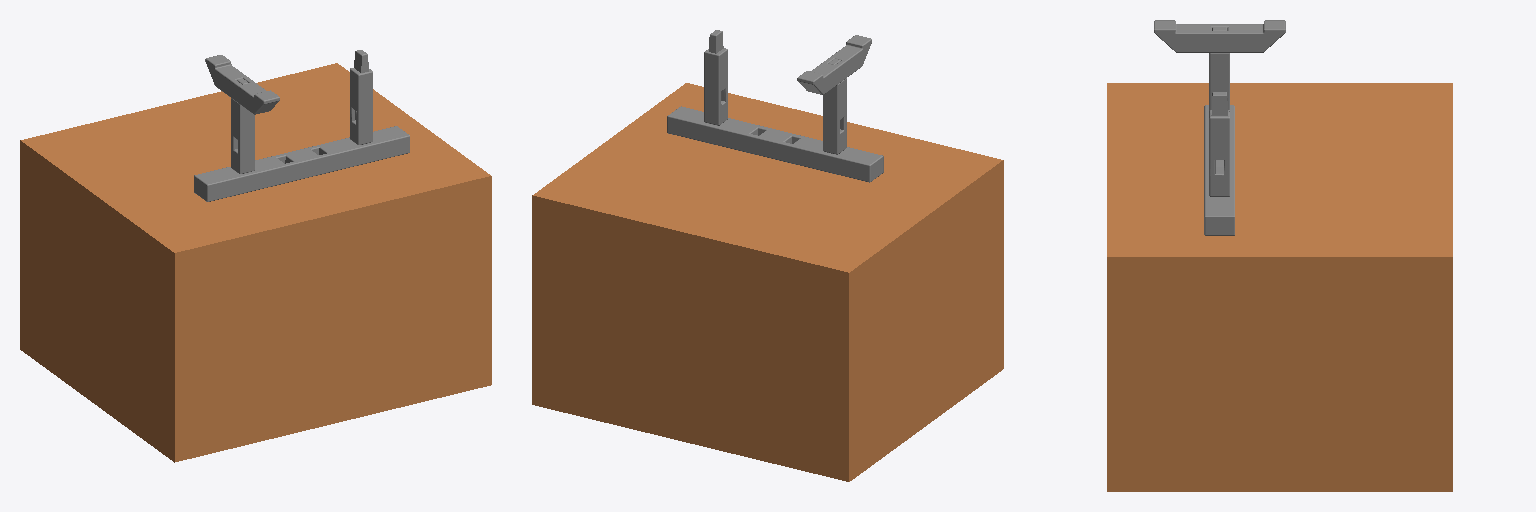
The robot description file, URDF, robot "table_beam_2x_1_scene_0002":
<?xml version="1.0"?>
<robot name="table_beam_2x_1_scene_0002">
  <link name="box">
    <visual>
      <material name="wood"><color rgba="0.82 0.56 0.35 1.0"/></material>
      <origin xyz="0 0 0"/>
      <geometry><box size="0.475 0.4 0.3"/></geometry>
    </visual>
    <collision>
      <origin xyz="0 0 0"/>
      <geometry><box size="0.475 0.4 0.3"/></geometry>
    </collision>
    <inertial>
      <mass value="500"/>
      <friction value="1.0"/>
      <inertia ixx="1000.0" ixy="0.0" ixz="0.0" iyy="1000.0" iyz="0.0" izz="1000.0"/>
    </inertial>
  </link>
  <link name="part_6_canonical">
    <visual>
      <origin xyz="0 0 0" rpy="0 0 0"/>
      <geometry><mesh filename="../../6/6_canonical.obj" scale="1 1 1"/></geometry>
      <material name="placed_0"><color rgba="0.6 0.6 0.6 1.0"/></material>
    </visual>
    <collision>
      <origin xyz="0 0 0" rpy="0 0 0"/>
      <geometry><mesh filename="../../6/6_canonical.obj" scale="1 1 1"/></geometry>
    </collision>
  </link>
  <joint name="part_6_canonical_joint" type="fixed">
    <parent link="box"/>
    <child link="part_6_canonical"/>
    <origin xyz="0.029054 -0.069619 0.162666" rpy="0.000000 0.000000 0.000000"/>
  </joint>
  <link name="part_2_canonical">
    <visual>
      <origin xyz="0 0 0" rpy="0 0 0"/>
      <geometry><mesh filename="../../2/2_canonical.obj" scale="1 1 1"/></geometry>
      <material name="placed_1"><color rgba="0.6 0.6 0.6 1.0"/></material>
    </visual>
    <collision>
      <origin xyz="0 0 0" rpy="0 0 0"/>
      <geometry><mesh filename="../../2/2_canonical.obj" scale="1 1 1"/></geometry>
    </collision>
  </link>
  <joint name="part_2_canonical_joint" type="fixed">
    <parent link="box"/>
    <child link="part_2_canonical"/>
    <origin xyz="-0.059873 -0.069619 0.225384" rpy="0.000000 -1.570796 0.000000"/>
  </joint>
  <link name="part_0_canonical">
    <visual>
      <origin xyz="0 0 0" rpy="0 0 0"/>
      <geometry><mesh filename="../../0/0_canonical.obj" scale="1 1 1"/></geometry>
      <material name="placed_2"><color rgba="0.6 0.6 0.6 1.0"/></material>
    </visual>
    <collision>
      <origin xyz="0 0 0" rpy="0 0 0"/>
      <geometry><mesh filename="../../0/0_canonical.obj" scale="1 1 1"/></geometry>
    </collision>
  </link>
  <joint name="part_0_canonical_joint" type="fixed">
    <parent link="box"/>
    <child link="part_0_canonical"/>
    <origin xyz="-0.059846 -0.069619 0.292243" rpy="1.570796 0.000000 -1.570796"/>
  </joint>
  <link name="part_3_hull_0">
    <visual>
      <origin xyz="0 0 0" rpy="0 0 0"/>
      <geometry><mesh filename="../../3/coacd/decomp_0.obj" scale="1 1 1"/></geometry>
      <material name="placed_3"><color rgba="0.6 0.6 0.6 1.0"/></material>
    </visual>
    <collision>
      <origin xyz="0 0 0" rpy="0 0 0"/>
      <geometry><mesh filename="../../3/coacd/decomp_0.obj" scale="1 1 1"/></geometry>
    </collision>
  </link>
  <joint name="part_3_hull_0_joint" type="fixed">
    <parent link="box"/>
    <child link="part_3_hull_0"/>
    <origin xyz="0.117981 -0.069619 0.225384" rpy="0.000000 -1.570796 0.000000"/>
  </joint>
  <link name="part_3_hull_1">
    <visual>
      <origin xyz="0 0 0" rpy="0 0 0"/>
      <geometry><mesh filename="../../3/coacd/decomp_1.obj" scale="1 1 1"/></geometry>
      <material name="placed_4"><color rgba="0.6 0.6 0.6 1.0"/></material>
    </visual>
    <collision>
      <origin xyz="0 0 0" rpy="0 0 0"/>
      <geometry><mesh filename="../../3/coacd/decomp_1.obj" scale="1 1 1"/></geometry>
    </collision>
  </link>
  <joint name="part_3_hull_1_joint" type="fixed">
    <parent link="box"/>
    <child link="part_3_hull_1"/>
    <origin xyz="0.117981 -0.069619 0.225384" rpy="0.000000 -1.570796 0.000000"/>
  </joint>
  <link name="part_3_hull_2">
    <visual>
      <origin xyz="0 0 0" rpy="0 0 0"/>
      <geometry><mesh filename="../../3/coacd/decomp_10.obj" scale="1 1 1"/></geometry>
      <material name="placed_5"><color rgba="0.6 0.6 0.6 1.0"/></material>
    </visual>
    <collision>
      <origin xyz="0 0 0" rpy="0 0 0"/>
      <geometry><mesh filename="../../3/coacd/decomp_10.obj" scale="1 1 1"/></geometry>
    </collision>
  </link>
  <joint name="part_3_hull_2_joint" type="fixed">
    <parent link="box"/>
    <child link="part_3_hull_2"/>
    <origin xyz="0.117981 -0.069619 0.225384" rpy="0.000000 -1.570796 0.000000"/>
  </joint>
  <link name="part_3_hull_3">
    <visual>
      <origin xyz="0 0 0" rpy="0 0 0"/>
      <geometry><mesh filename="../../3/coacd/decomp_11.obj" scale="1 1 1"/></geometry>
      <material name="placed_6"><color rgba="0.6 0.6 0.6 1.0"/></material>
    </visual>
    <collision>
      <origin xyz="0 0 0" rpy="0 0 0"/>
      <geometry><mesh filename="../../3/coacd/decomp_11.obj" scale="1 1 1"/></geometry>
    </collision>
  </link>
  <joint name="part_3_hull_3_joint" type="fixed">
    <parent link="box"/>
    <child link="part_3_hull_3"/>
    <origin xyz="0.117981 -0.069619 0.225384" rpy="0.000000 -1.570796 0.000000"/>
  </joint>
  <link name="part_3_hull_4">
    <visual>
      <origin xyz="0 0 0" rpy="0 0 0"/>
      <geometry><mesh filename="../../3/coacd/decomp_12.obj" scale="1 1 1"/></geometry>
      <material name="placed_7"><color rgba="0.6 0.6 0.6 1.0"/></material>
    </visual>
    <collision>
      <origin xyz="0 0 0" rpy="0 0 0"/>
      <geometry><mesh filename="../../3/coacd/decomp_12.obj" scale="1 1 1"/></geometry>
    </collision>
  </link>
  <joint name="part_3_hull_4_joint" type="fixed">
    <parent link="box"/>
    <child link="part_3_hull_4"/>
    <origin xyz="0.117981 -0.069619 0.225384" rpy="0.000000 -1.570796 0.000000"/>
  </joint>
  <link name="part_3_hull_5">
    <visual>
      <origin xyz="0 0 0" rpy="0 0 0"/>
      <geometry><mesh filename="../../3/coacd/decomp_2.obj" scale="1 1 1"/></geometry>
      <material name="placed_8"><color rgba="0.6 0.6 0.6 1.0"/></material>
    </visual>
    <collision>
      <origin xyz="0 0 0" rpy="0 0 0"/>
      <geometry><mesh filename="../../3/coacd/decomp_2.obj" scale="1 1 1"/></geometry>
    </collision>
  </link>
  <joint name="part_3_hull_5_joint" type="fixed">
    <parent link="box"/>
    <child link="part_3_hull_5"/>
    <origin xyz="0.117981 -0.069619 0.225384" rpy="0.000000 -1.570796 0.000000"/>
  </joint>
  <link name="part_3_hull_6">
    <visual>
      <origin xyz="0 0 0" rpy="0 0 0"/>
      <geometry><mesh filename="../../3/coacd/decomp_3.obj" scale="1 1 1"/></geometry>
      <material name="placed_9"><color rgba="0.6 0.6 0.6 1.0"/></material>
    </visual>
    <collision>
      <origin xyz="0 0 0" rpy="0 0 0"/>
      <geometry><mesh filename="../../3/coacd/decomp_3.obj" scale="1 1 1"/></geometry>
    </collision>
  </link>
  <joint name="part_3_hull_6_joint" type="fixed">
    <parent link="box"/>
    <child link="part_3_hull_6"/>
    <origin xyz="0.117981 -0.069619 0.225384" rpy="0.000000 -1.570796 0.000000"/>
  </joint>
  <link name="part_3_hull_7">
    <visual>
      <origin xyz="0 0 0" rpy="0 0 0"/>
      <geometry><mesh filename="../../3/coacd/decomp_4.obj" scale="1 1 1"/></geometry>
      <material name="placed_10"><color rgba="0.6 0.6 0.6 1.0"/></material>
    </visual>
    <collision>
      <origin xyz="0 0 0" rpy="0 0 0"/>
      <geometry><mesh filename="../../3/coacd/decomp_4.obj" scale="1 1 1"/></geometry>
    </collision>
  </link>
  <joint name="part_3_hull_7_joint" type="fixed">
    <parent link="box"/>
    <child link="part_3_hull_7"/>
    <origin xyz="0.117981 -0.069619 0.225384" rpy="0.000000 -1.570796 0.000000"/>
  </joint>
  <link name="part_3_hull_8">
    <visual>
      <origin xyz="0 0 0" rpy="0 0 0"/>
      <geometry><mesh filename="../../3/coacd/decomp_5.obj" scale="1 1 1"/></geometry>
      <material name="placed_11"><color rgba="0.6 0.6 0.6 1.0"/></material>
    </visual>
    <collision>
      <origin xyz="0 0 0" rpy="0 0 0"/>
      <geometry><mesh filename="../../3/coacd/decomp_5.obj" scale="1 1 1"/></geometry>
    </collision>
  </link>
  <joint name="part_3_hull_8_joint" type="fixed">
    <parent link="box"/>
    <child link="part_3_hull_8"/>
    <origin xyz="0.117981 -0.069619 0.225384" rpy="0.000000 -1.570796 0.000000"/>
  </joint>
  <link name="part_3_hull_9">
    <visual>
      <origin xyz="0 0 0" rpy="0 0 0"/>
      <geometry><mesh filename="../../3/coacd/decomp_6.obj" scale="1 1 1"/></geometry>
      <material name="placed_12"><color rgba="0.6 0.6 0.6 1.0"/></material>
    </visual>
    <collision>
      <origin xyz="0 0 0" rpy="0 0 0"/>
      <geometry><mesh filename="../../3/coacd/decomp_6.obj" scale="1 1 1"/></geometry>
    </collision>
  </link>
  <joint name="part_3_hull_9_joint" type="fixed">
    <parent link="box"/>
    <child link="part_3_hull_9"/>
    <origin xyz="0.117981 -0.069619 0.225384" rpy="0.000000 -1.570796 0.000000"/>
  </joint>
  <link name="part_3_hull_10">
    <visual>
      <origin xyz="0 0 0" rpy="0 0 0"/>
      <geometry><mesh filename="../../3/coacd/decomp_7.obj" scale="1 1 1"/></geometry>
      <material name="placed_13"><color rgba="0.6 0.6 0.6 1.0"/></material>
    </visual>
    <collision>
      <origin xyz="0 0 0" rpy="0 0 0"/>
      <geometry><mesh filename="../../3/coacd/decomp_7.obj" scale="1 1 1"/></geometry>
    </collision>
  </link>
  <joint name="part_3_hull_10_joint" type="fixed">
    <parent link="box"/>
    <child link="part_3_hull_10"/>
    <origin xyz="0.117981 -0.069619 0.225384" rpy="0.000000 -1.570796 0.000000"/>
  </joint>
  <link name="part_3_hull_11">
    <visual>
      <origin xyz="0 0 0" rpy="0 0 0"/>
      <geometry><mesh filename="../../3/coacd/decomp_8.obj" scale="1 1 1"/></geometry>
      <material name="placed_14"><color rgba="0.6 0.6 0.6 1.0"/></material>
    </visual>
    <collision>
      <origin xyz="0 0 0" rpy="0 0 0"/>
      <geometry><mesh filename="../../3/coacd/decomp_8.obj" scale="1 1 1"/></geometry>
    </collision>
  </link>
  <joint name="part_3_hull_11_joint" type="fixed">
    <parent link="box"/>
    <child link="part_3_hull_11"/>
    <origin xyz="0.117981 -0.069619 0.225384" rpy="0.000000 -1.570796 0.000000"/>
  </joint>
  <link name="part_3_hull_12">
    <visual>
      <origin xyz="0 0 0" rpy="0 0 0"/>
      <geometry><mesh filename="../../3/coacd/decomp_9.obj" scale="1 1 1"/></geometry>
      <material name="placed_15"><color rgba="0.6 0.6 0.6 1.0"/></material>
    </visual>
    <collision>
      <origin xyz="0 0 0" rpy="0 0 0"/>
      <geometry><mesh filename="../../3/coacd/decomp_9.obj" scale="1 1 1"/></geometry>
    </collision>
  </link>
  <joint name="part_3_hull_12_joint" type="fixed">
    <parent link="box"/>
    <child link="part_3_hull_12"/>
    <origin xyz="0.117981 -0.069619 0.225384" rpy="0.000000 -1.570796 0.000000"/>
  </joint>
</robot>

--- Render facts (derived) ---
The picture shows the robot from 3 angles, left to right: view 1: azimuth 30°, elevation 25°; view 2: azimuth 150°, elevation 25°; view 3: azimuth 270°, elevation 25°; orthographic projection.
Robot: table_beam_2x_1_scene_0002 — 17 links, 16 joints (16 fixed); root link box; default pose: every joint at zero.
Links seen in each view (by area): view 1: box, part_6_canonical, part_0_canonical, part_2_canonical, part_3_hull_7; view 2: box, part_6_canonical, part_0_canonical, part_2_canonical; view 3: box, part_0_canonical, part_6_canonical, part_2_canonical, part_3_hull_0.
Boxes of the visible links, bbox=[...] form: box: bbox=[20, 63, 491, 462]; part_6_canonical: bbox=[194, 126, 409, 201]; part_0_canonical: bbox=[205, 55, 279, 114]; part_2_canonical: bbox=[231, 78, 254, 173]; part_3_hull_7: bbox=[361, 72, 369, 144]; box: bbox=[532, 83, 1003, 481]; part_6_canonical: bbox=[667, 106, 883, 182]; part_0_canonical: bbox=[797, 35, 871, 94]; part_2_canonical: bbox=[823, 59, 846, 154]; box: bbox=[1107, 83, 1452, 491]; part_0_canonical: bbox=[1154, 20, 1285, 52]; part_6_canonical: bbox=[1204, 105, 1234, 235]; part_2_canonical: bbox=[1209, 27, 1229, 110]; part_3_hull_0: bbox=[1209, 116, 1229, 159].
Bounding box of the posed robot: 0.475 × 0.4 × 0.4575 m (x, y, z).
16 mesh visuals loaded from 16 distinct referenced files (16 OBJ).
